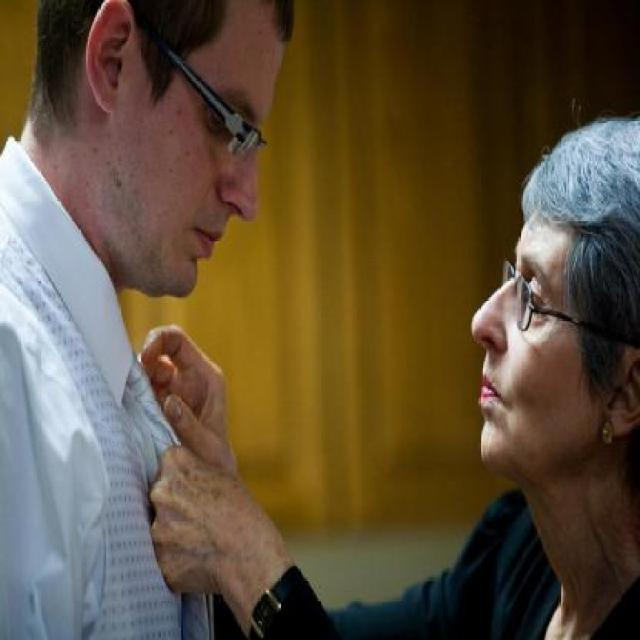Person: (135, 110, 639, 632), (0, 1, 297, 632)
